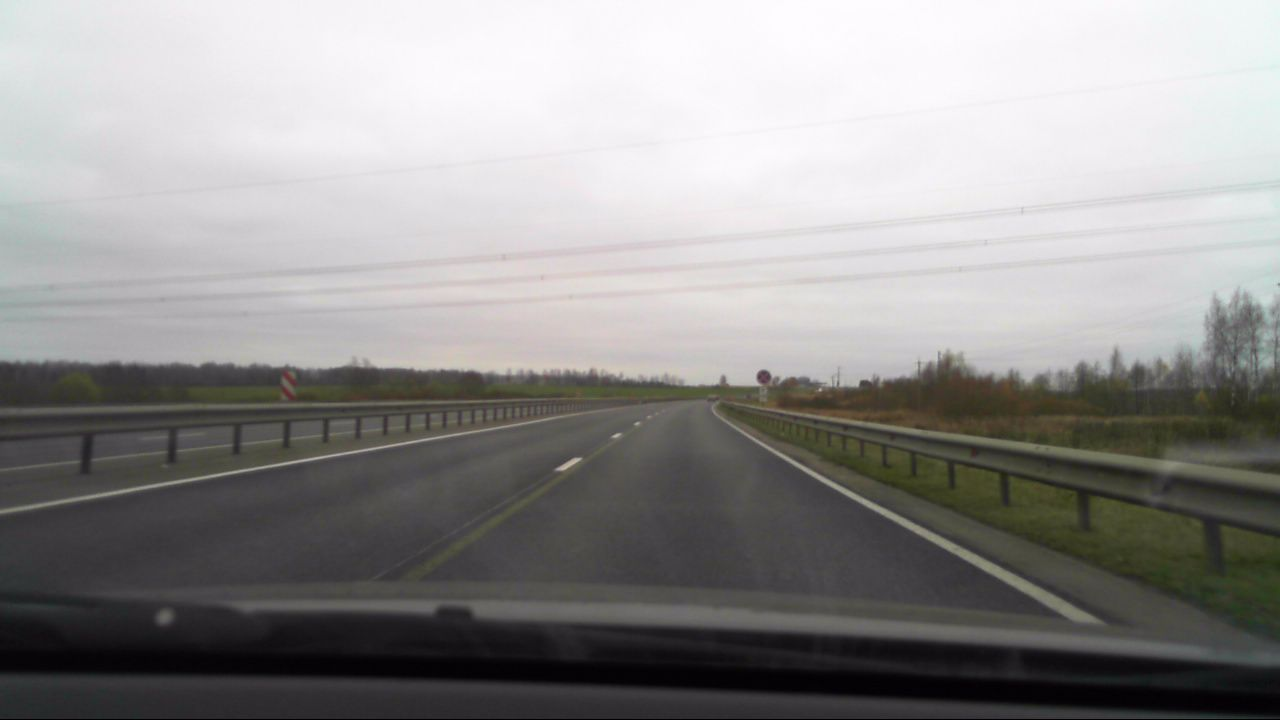No Parking: (756, 368, 772, 384)
